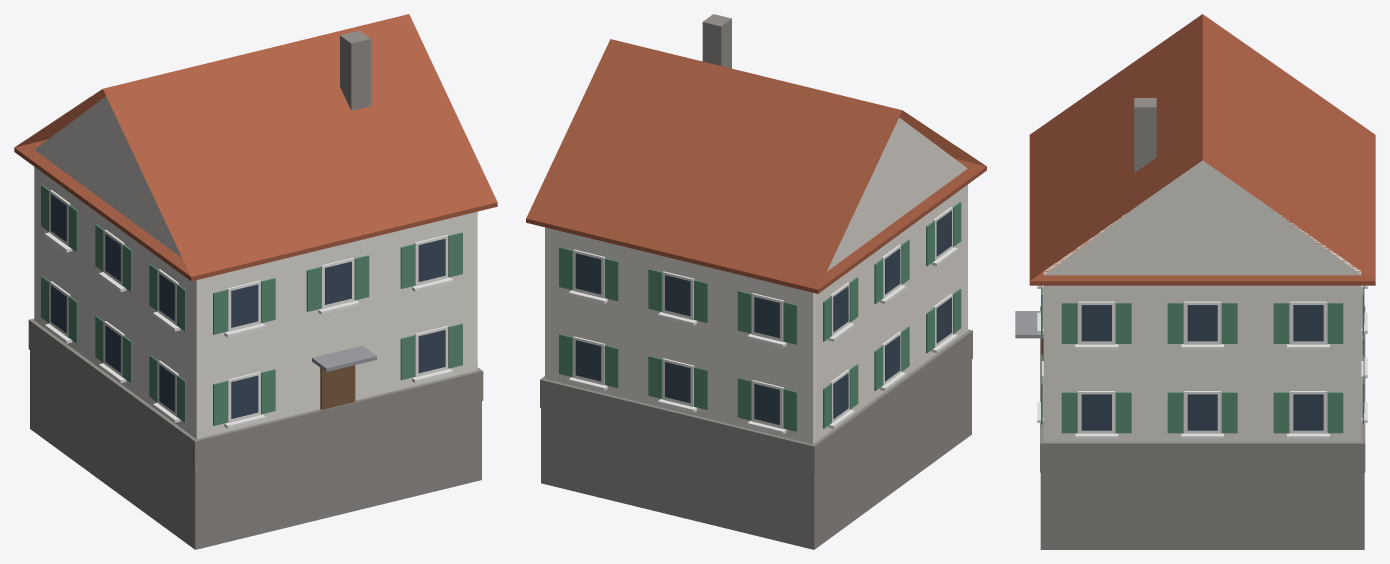
Rendered from house_a.glb.
3 views of the same model, side by side, from view 1: azimuth 30°, elevation 25°; view 2: azimuth 150°, elevation 25°; view 3: azimuth 270°, elevation 25° (orthographic). The views are drawn at different scales.
Parts seen in each view (by area): view 1: house_a; view 2: house_a; view 3: house_a.
Boxes of the visible parts, x1,y1,x2,y2 form: house_a: (14,14,497,549); house_a: (526,14,986,549); house_a: (1015,14,1375,549).
Size of the model in its own units: 10.9 by 14.33 by 11.35.
